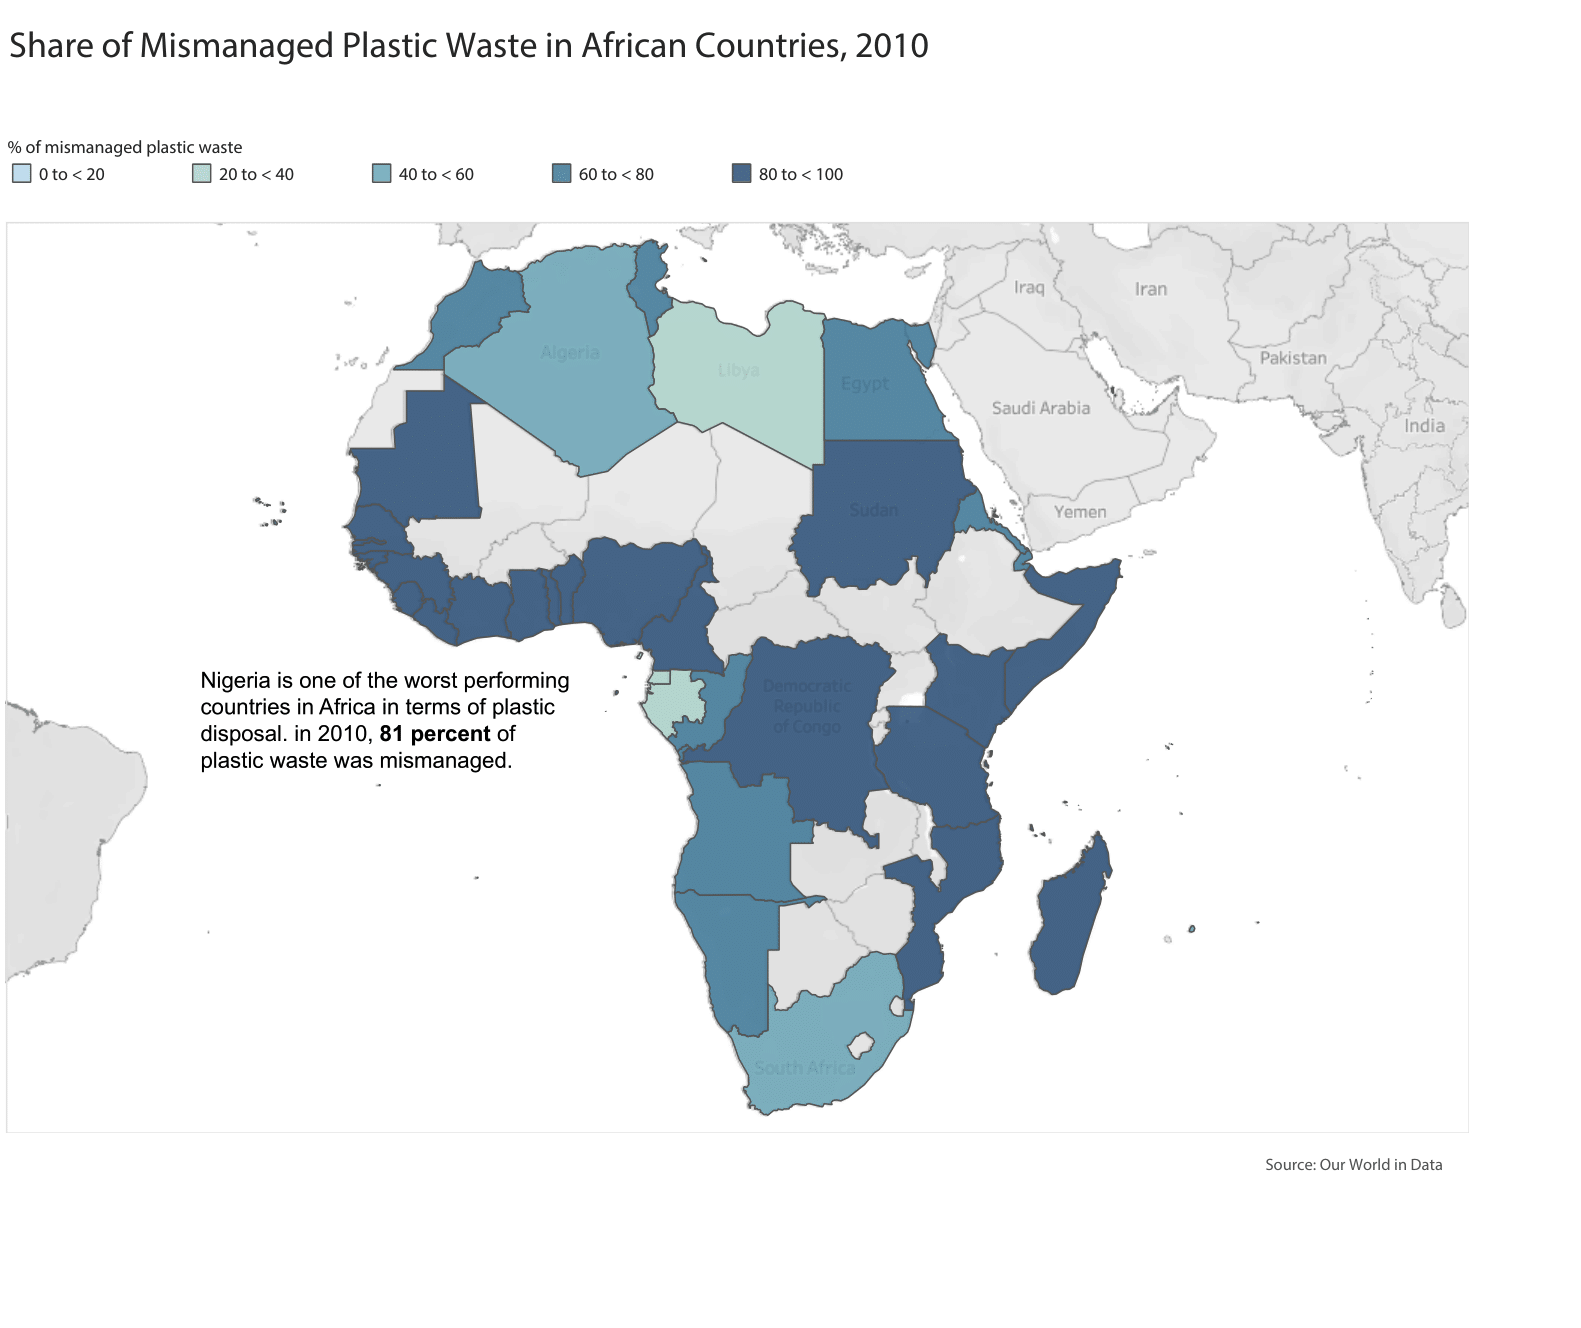

Layout of this report page (visuals, bound fields, positions):
{"tool":"tableau","page":{"name":"Dashboard 1","canvas":[1000,800],"ordinal":0},"visuals":[{"type":"title","box":[8,8,984,91]},{"type":"legend","title":"Sheet 1","param":"[federated.1na7zu8053wj9l1d4gcmw0pjrjri].[usr:Calculation_4790281937887186945:nk","box":[8,99,984,44.5]},{"type":"worksheet","title":"Sheet 1","mark":"Automatic","box":[8,143.5,984,616.5]},{"type":"text","box":[8,760,984,32]}]}

Visuals, with their boxes on the page's 1000x800 design canvas (x1, y1, x2, y2). These are canvas units, not pixel positions in the 1581x1328 screenshot, which may show the page scaled, cropped or inside an application window:
title: bbox(8, 8, 992, 99)
"Sheet 1" legend: bbox(8, 99, 992, 144)
"Sheet 1" worksheet: bbox(8, 144, 992, 760)
text: bbox(8, 760, 992, 792)
